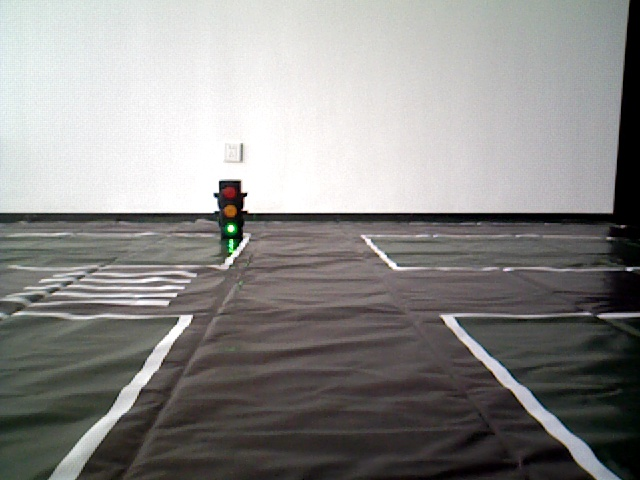green: (219, 181, 238, 235)
